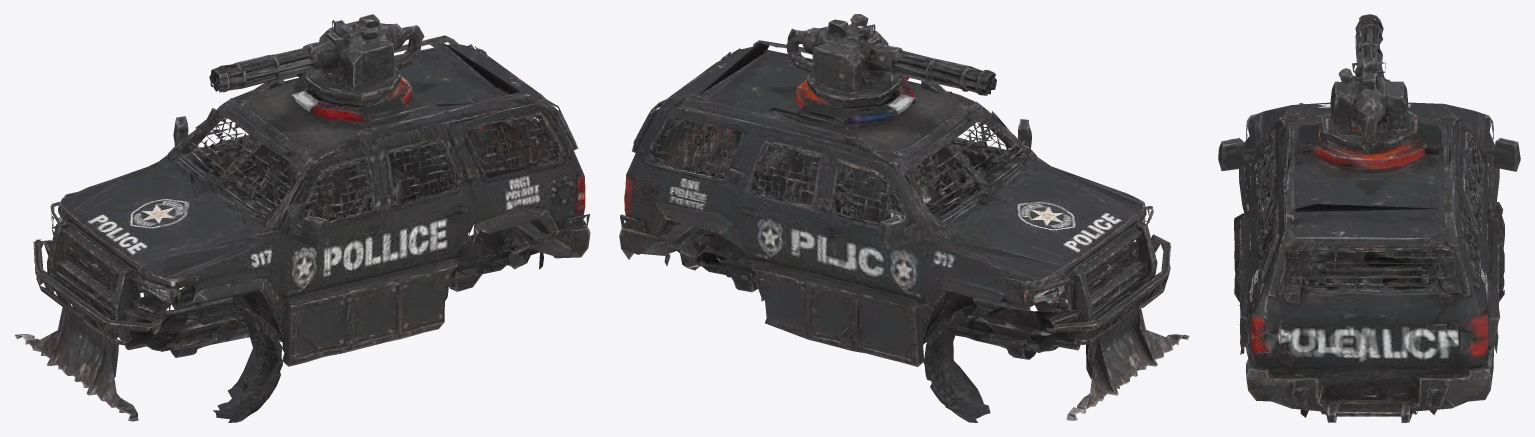
The model's file is rampart-ai.glb.
3 renders of one model, left to right at view 1: azimuth 30°, elevation 25°; view 2: azimuth 150°, elevation 25°; view 3: azimuth 270°, elevation 25°, orthographic. The views are drawn at different scales.
Parts seen in each view (by area): view 1: CarBody; view 2: CarBody; view 3: CarBody.
Boxes of the visible parts, x1,y1,x2,y2 form: CarBody: (15, 14, 590, 422); CarBody: (619, 14, 1189, 422); CarBody: (1218, 14, 1520, 422).
Size of the model in its own units: 1.9 by 1.2 by 1.01.
Materials: 1 (1 with a texture image).
